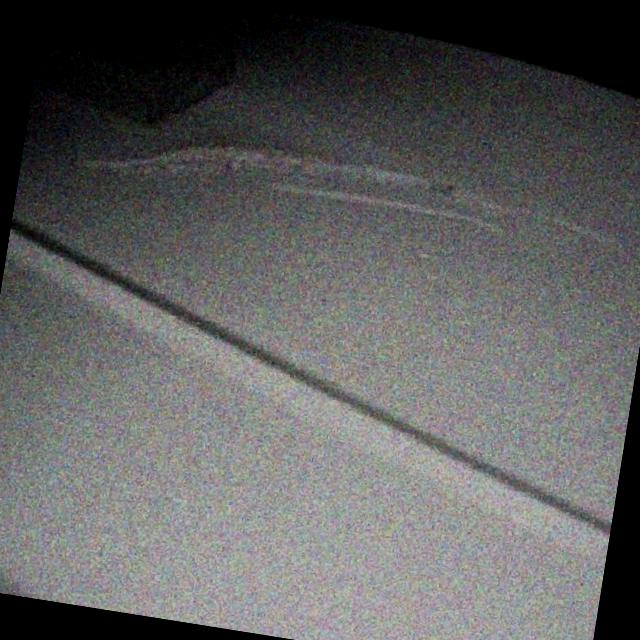crack: (78, 121, 511, 233)
